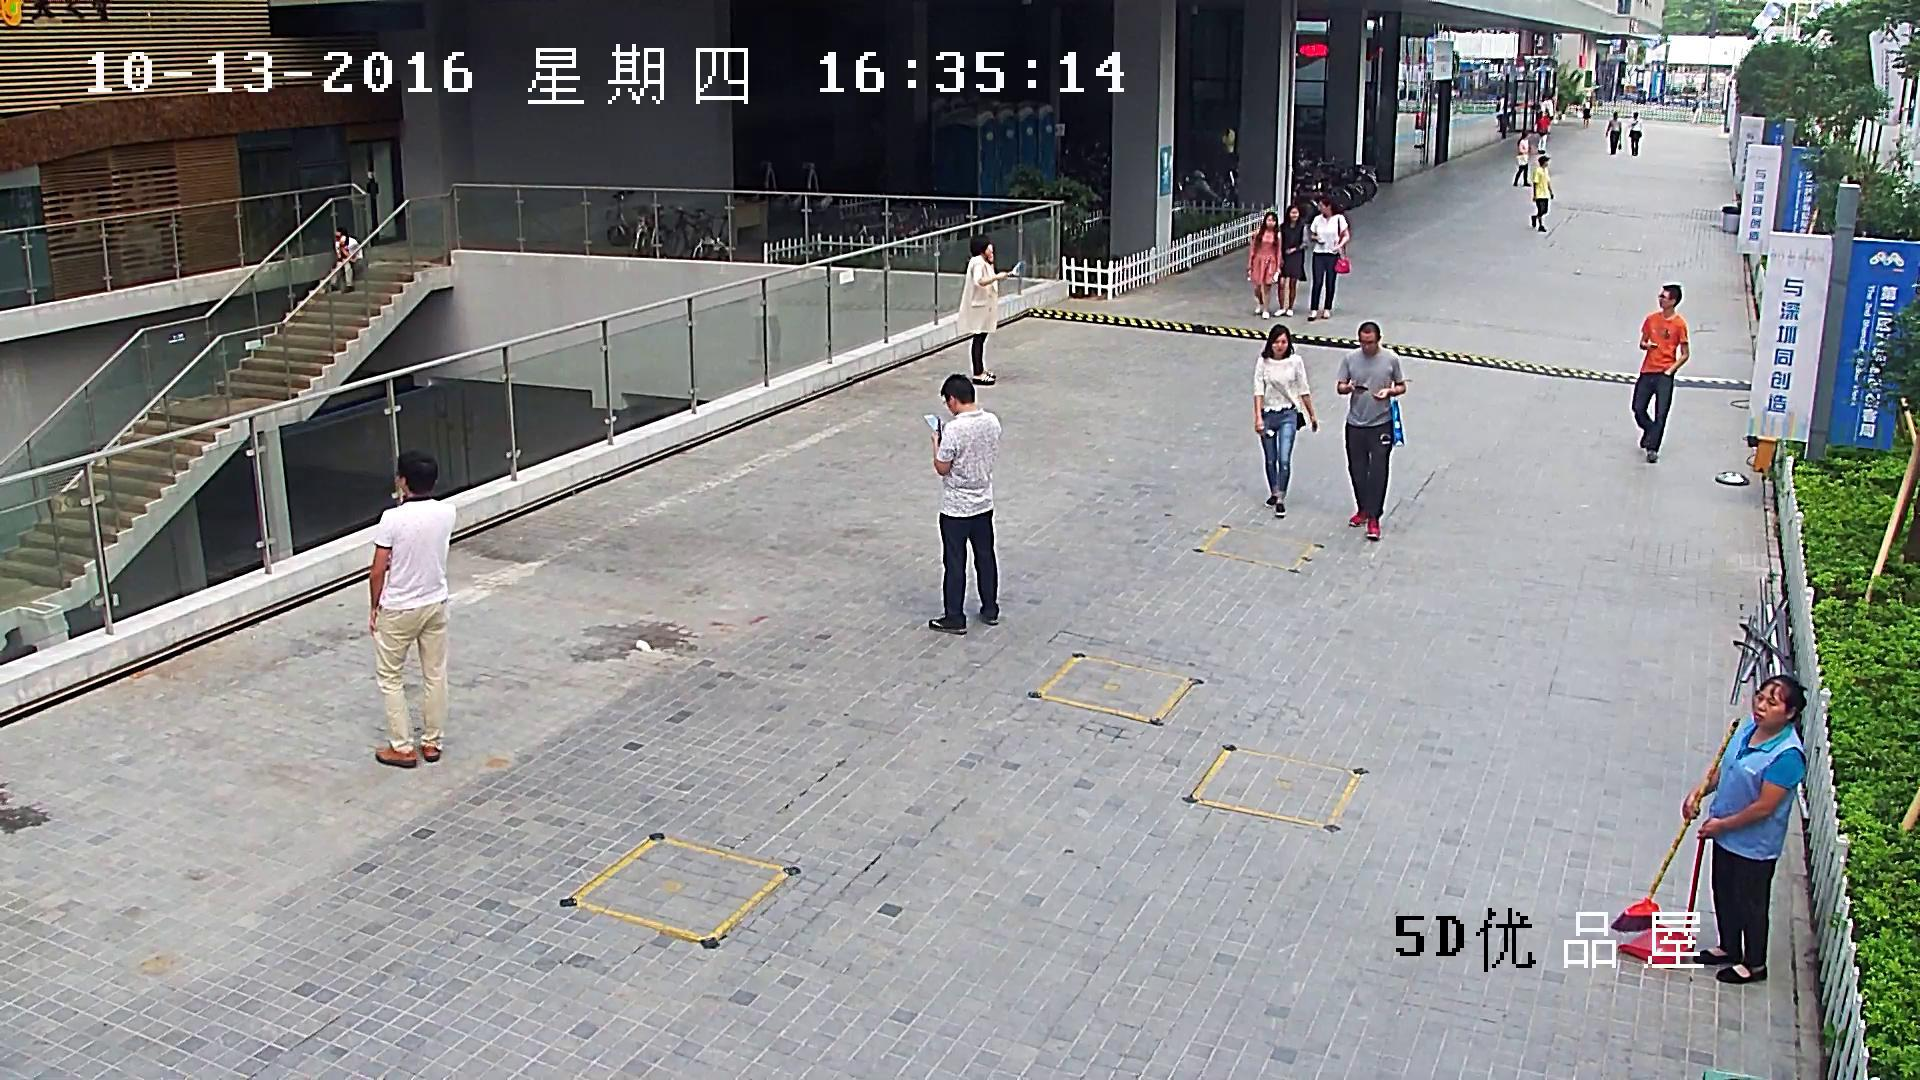person: (1610, 677, 1811, 989), (1685, 674, 1806, 984), (367, 457, 456, 767), (925, 376, 1002, 634), (1335, 321, 1407, 540), (1255, 325, 1317, 516), (1632, 284, 1690, 462), (961, 234, 1020, 384), (1309, 198, 1348, 318), (1274, 206, 1306, 317), (1247, 212, 1281, 318), (327, 229, 363, 291), (1530, 156, 1555, 232), (1513, 130, 1531, 187), (1605, 113, 1623, 156), (1538, 110, 1552, 152), (1629, 113, 1641, 155)
